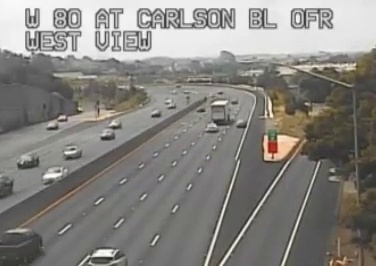car: (1, 228, 42, 265)
truck: (210, 98, 230, 126)
